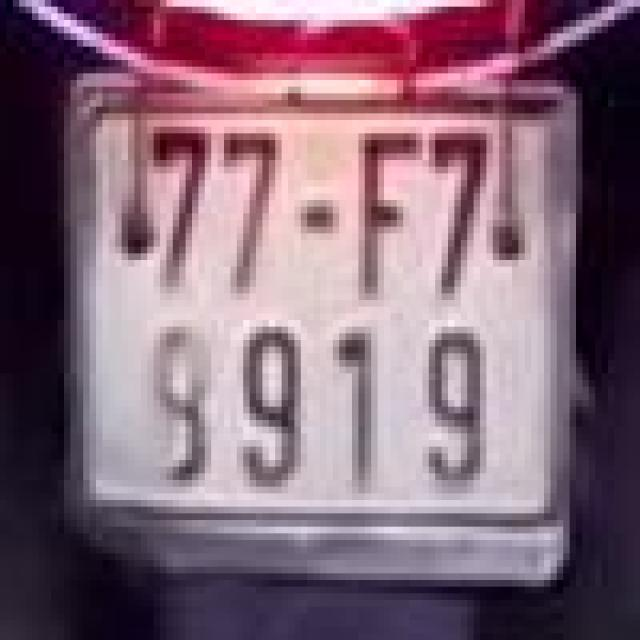1: (326, 316, 384, 496)
7: (426, 117, 508, 303), (138, 103, 215, 297), (221, 107, 291, 293)
8: (147, 316, 218, 496)
9: (413, 320, 502, 500), (237, 314, 307, 494)
F: (348, 107, 426, 300)
